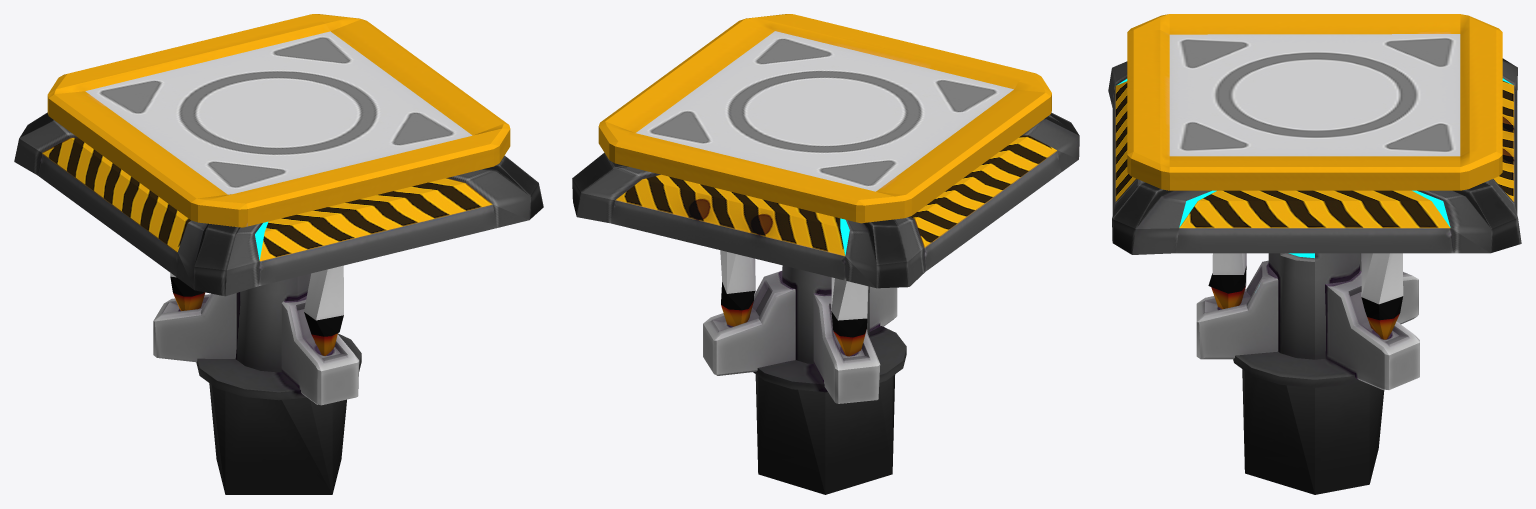
Rendered from ETC0310001.fbx.
3 views of the same model, side by side, from view 1: azimuth 30°, elevation 25°; view 2: azimuth 150°, elevation 25°; view 3: azimuth 270°, elevation 25° (orthographic). The views are drawn at different scales.
Visible parts, largest first — view 1: smETC0310001; view 2: smETC0310001; view 3: smETC0310001.
Boxes of the visible parts, <box> form: smETC0310001: <box>14,14,543,494</box>; smETC0310001: <box>572,14,1079,494</box>; smETC0310001: <box>1108,14,1521,494</box>.
Size of the model in its own units: 120 by 119 by 120.
Materials: 1 (1 with a texture image).
